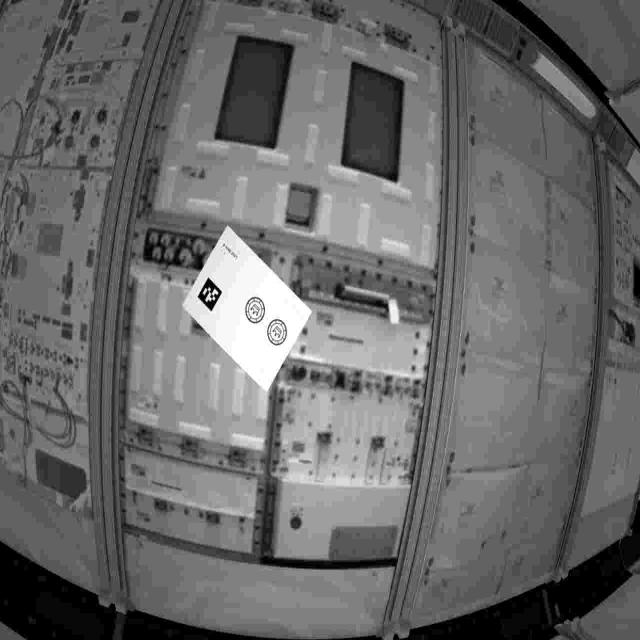coin: (266, 317, 290, 349), (245, 297, 267, 325)
